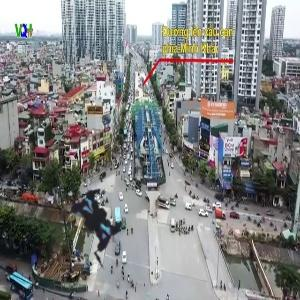drone: (20, 151, 166, 297)
